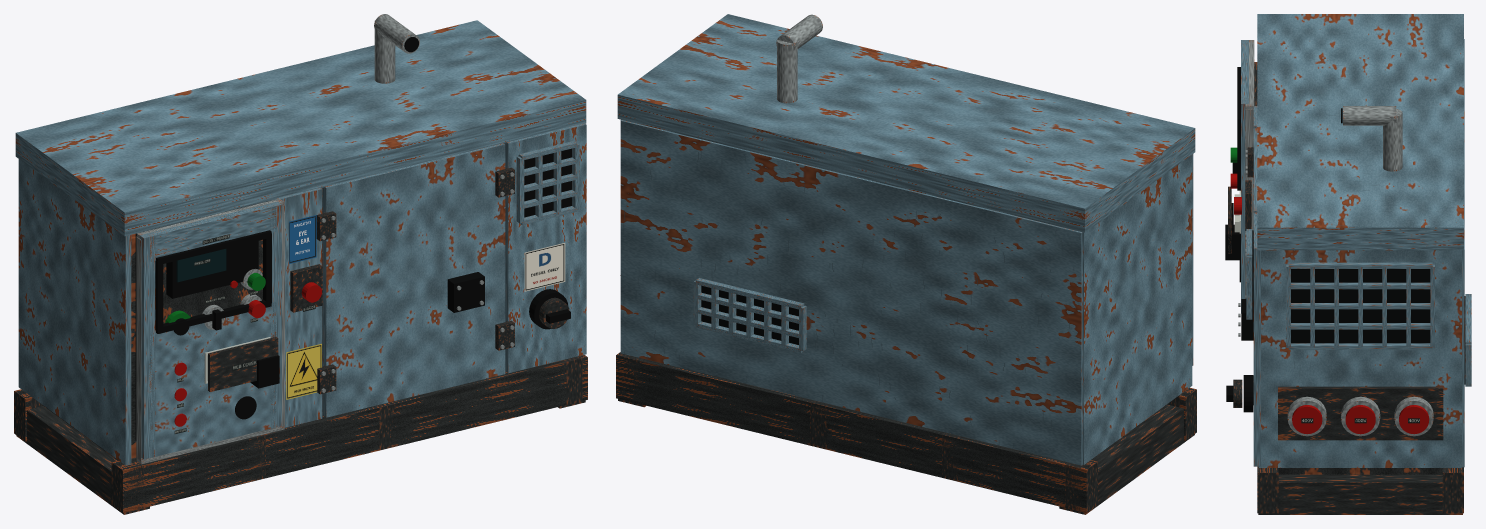
Rendered from Generator_Closed.obj.
3 views of the same model, side by side, from view 1: azimuth 30°, elevation 25°; view 2: azimuth 150°, elevation 25°; view 3: azimuth 270°, elevation 25° (orthographic). The views are drawn at different scales.
Parts seen in each view (by area): view 1: Roof, FrontPanel0.36, LeftSide, SkidRail0.52, FrontPanel1.17, DoorBottom, FrontPanel-0.35, SkidFoot-1.34, DoorLeft, DoorTop, BreakerCover, DisplayBezel (+21 smaller); view 2: RearPanel, Roof, LeftSide, SkidRail-0.52, SkidFoot-1.34, RearVentInside, ExhaustUpright, RearVentH3, ExhaustElbow, SkidCross-0.520.2, RearVentH0, RearVentH1 (+3 smaller); view 3: Roof, RightSide, SkidFoot1.34, SideVentInside, SocketPlate, FrontPanel1.17, InnerEngine, ExhaustUpright, ExhaustElbow, DoorRight, SkidRail0.52, SkidRail-0.52 (+30 smaller).
Part boxes in pixels (x1,y1,x2,y2): Roof: (15,20,586,236); FrontPanel0.36: (322,143,505,417); LeftSide: (18,159,131,465); SkidRail0.52: (111,355,587,512); FrontPanel1.17: (505,123,586,373); DoorBottom: (149,301,276,457); FrontPanel-0.35: (276,187,322,427); SkidFoot-1.34: (16,406,149,514); DoorLeft: (139,232,155,459); DoorTop: (146,203,276,261); BreakerCover: (208,337,278,391); DisplayBezel: (166,241,258,298); RearPanel: (620,120,1082,465); Roof: (617,14,1195,232); LeftSide: (1082,154,1192,464); SkidRail-0.52: (616,352,1097,512); SkidFoot-1.34: (1059,404,1194,514); RearVentInside: (701,285,804,344); ExhaustUpright: (777,40,797,103); RearVentH3: (695,278,804,309); ExhaustElbow: (776,14,822,50); SkidCross-0.520.2: (810,400,827,449); RearVentH0: (695,321,802,352); RearVentH1: (695,307,800,338); Roof: (1257,14,1463,250); RightSide: (1259,250,1461,467); SkidFoot1.34: (1258,474,1462,514); SideVentInside: (1291,269,1430,343); SocketPlate: (1278,386,1443,440); FrontPanel1.17: (1253,212,1260,466); InnerEngine: (1278,468,1442,474); ExhaustUpright: (1383,109,1402,171); ExhaustElbow: (1343,106,1396,125); DoorRight: (1241,98,1248,313); SkidRail0.52: (1257,466,1278,513); SkidRail-0.52: (1442,467,1463,513).
Bounding box in the file's own units: 2.95 × 2.15 × 1.38.
Materials: 27 (22 with a texture image).
